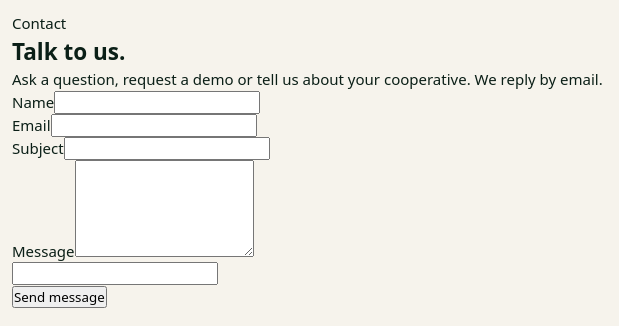
Test case: Contact form › asks for at least ten characters in the message
This screenshot has width=619, height=326.
Type "Aline" into the field labelled "Name" at (157, 102), box 54,91 -> 260,114
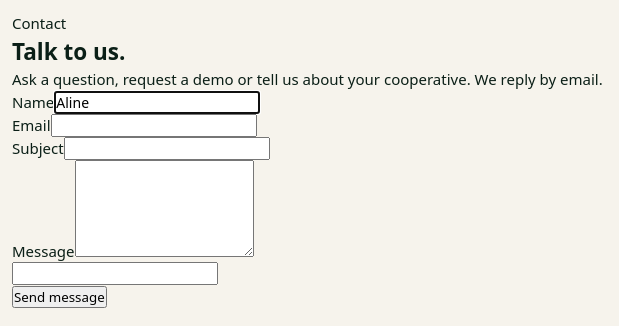
Type "a@b.rw" into the field labelled "Email" at (154, 125), box 50,114 -> 256,137
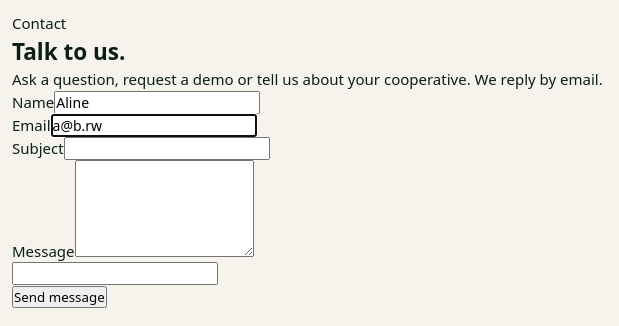
Type "Hello" into the field labelled "Subject" at (167, 148), box 64,137 -> 270,160
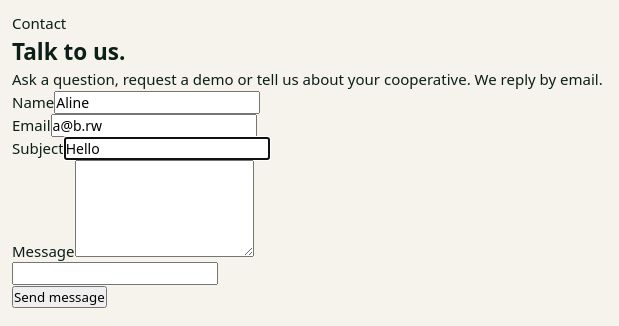
Type "short" into the text box labelled "Message" at (164, 208), box 74,160 -> 254,257
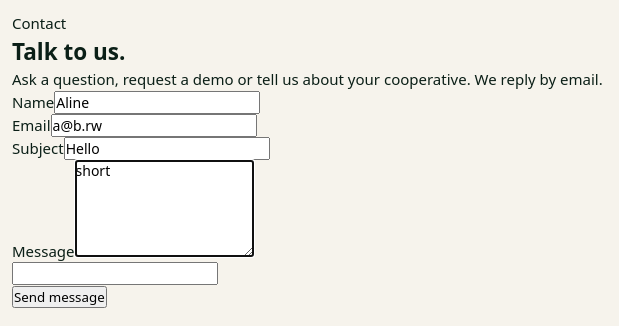
Click the button "Send message" at (59, 297), box 12,286 -> 107,308
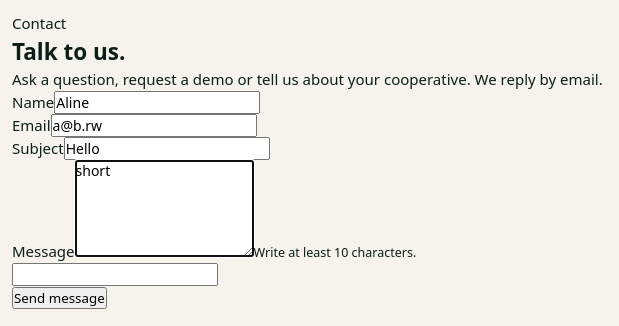
Check: the text "Write at least 10 characters." is shown, box 254,244 -> 416,261
